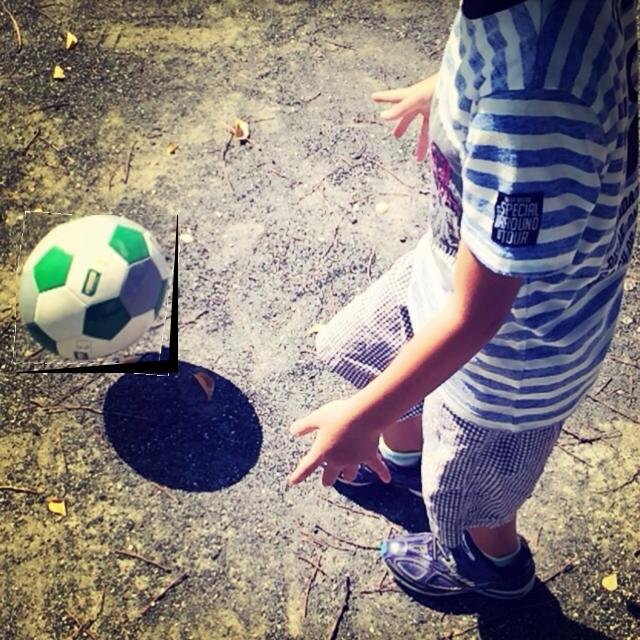Football: (16, 215, 178, 373)
